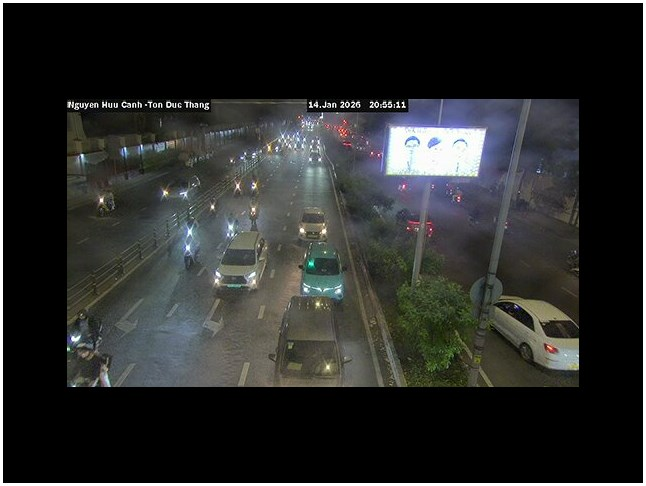car: (488, 295, 579, 372), (271, 292, 344, 381), (214, 229, 269, 290), (300, 241, 345, 303), (297, 207, 328, 241)
